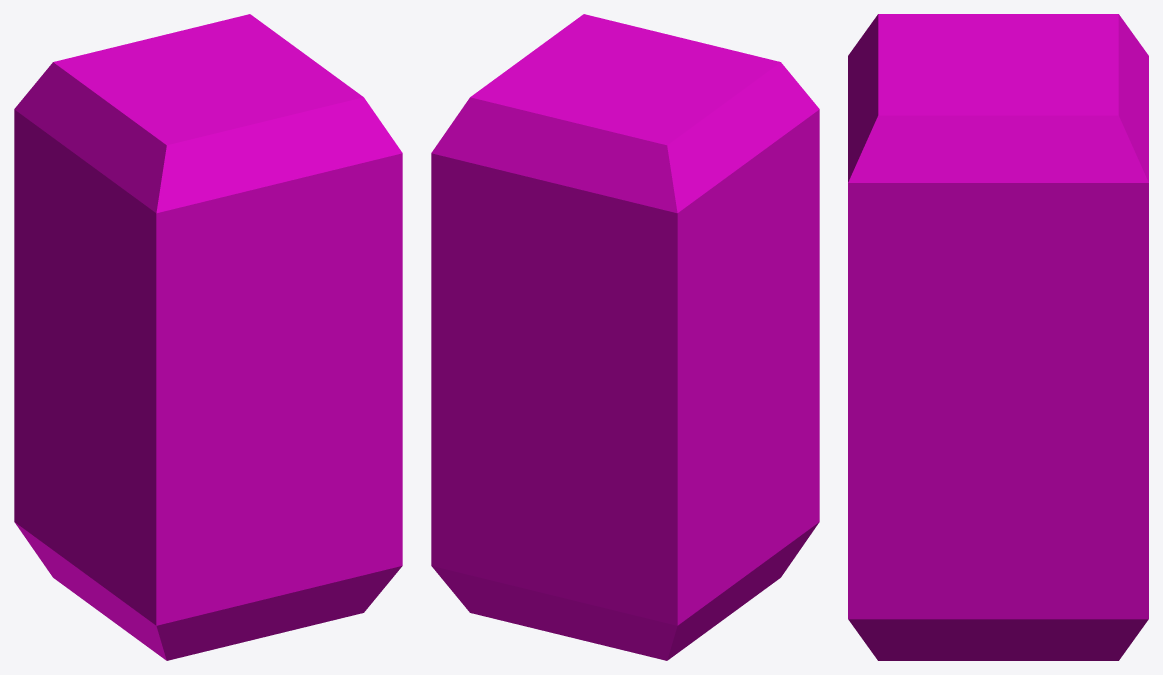
3 views of the same model, side by side, from view 1: azimuth 30°, elevation 25°; view 2: azimuth 150°, elevation 25°; view 3: azimuth 270°, elevation 25° (orthographic). The views are drawn at different scales.
Visible parts, largest first — view 1: Cube.001; view 2: Cube.001; view 3: Cube.001.
Boxes of the visible parts, bbox=[...] form: Cube.001: bbox=[14, 14, 402, 660]; Cube.001: bbox=[431, 14, 819, 660]; Cube.001: bbox=[848, 14, 1148, 660].
Size of the model in its own units: 2 by 4 by 2.
